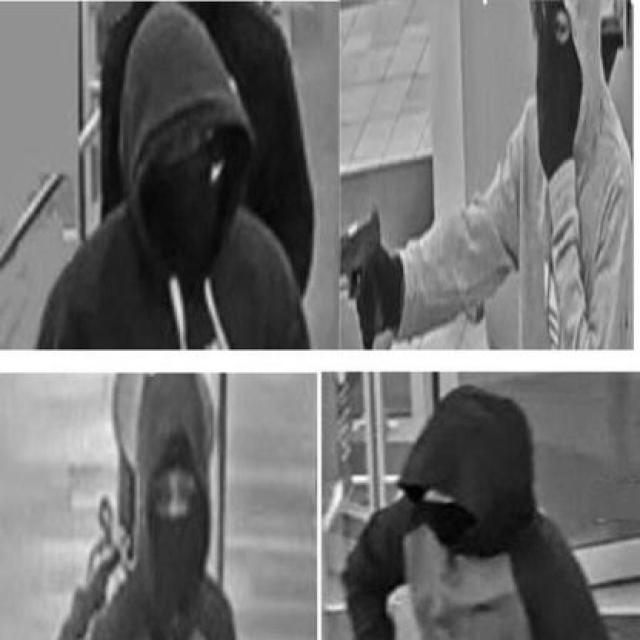weapon: (338, 205, 392, 334)
